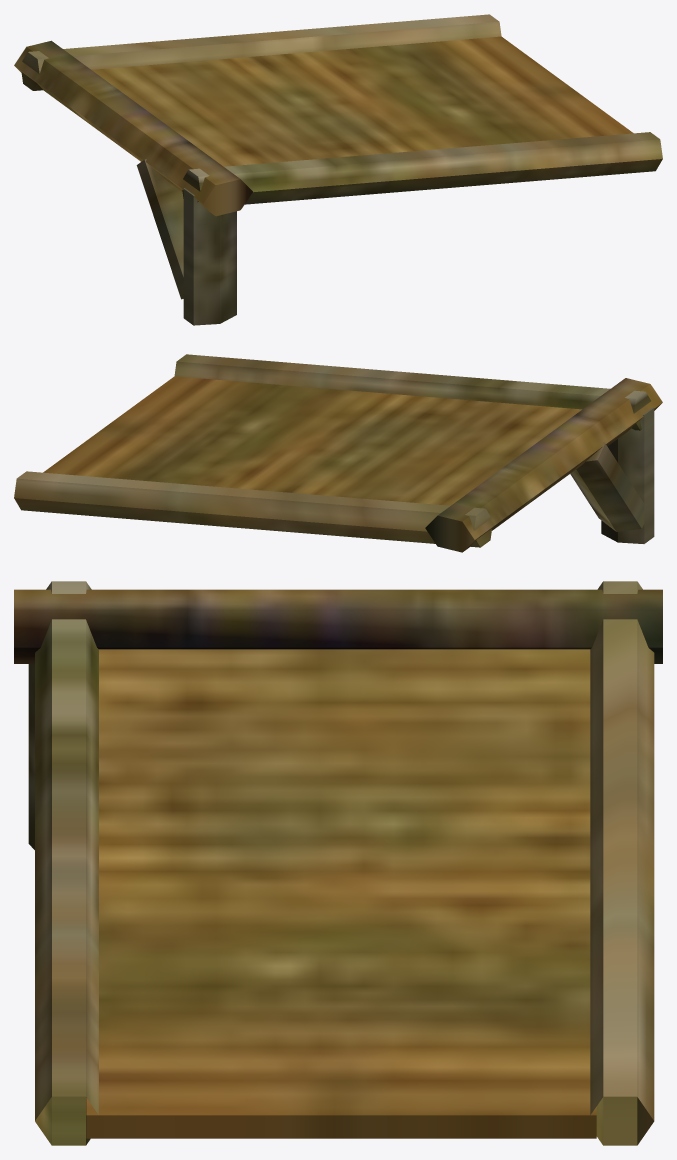
Rendered from 2half_shelf.fbx.
3 views of the same model, one above another, from view 1: azimuth 30°, elevation 25°; view 2: azimuth 150°, elevation 25°; view 3: azimuth 270°, elevation 25° (orthographic). The views are drawn at different scales.
Parts seen in each view (by area): view 1: Shelf.002; view 2: Shelf.002; view 3: Shelf.002.
Part boxes in pixels (left/top/right/bottom): Shelf.002: left=14, top=14, right=662, bottom=325; Shelf.002: left=14, top=354, right=662, bottom=552; Shelf.002: left=14, top=581, right=662, bottom=1145.
Bounding box in the file's own units: 2.53 × 1.77 × 0.7509.
Materials: 1 (1 with a texture image).
